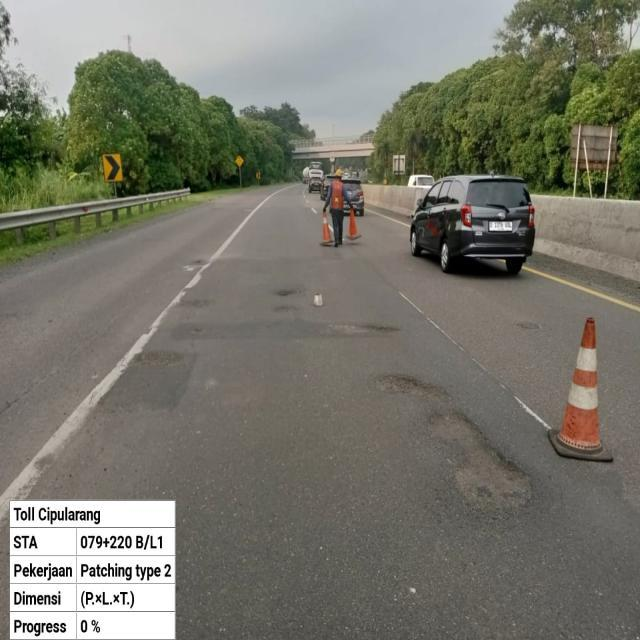Buraco: (421, 406, 538, 518), (369, 371, 456, 406), (124, 348, 188, 372), (323, 321, 404, 339), (510, 320, 544, 332), (271, 288, 300, 299), (186, 326, 208, 336), (186, 258, 210, 266)
